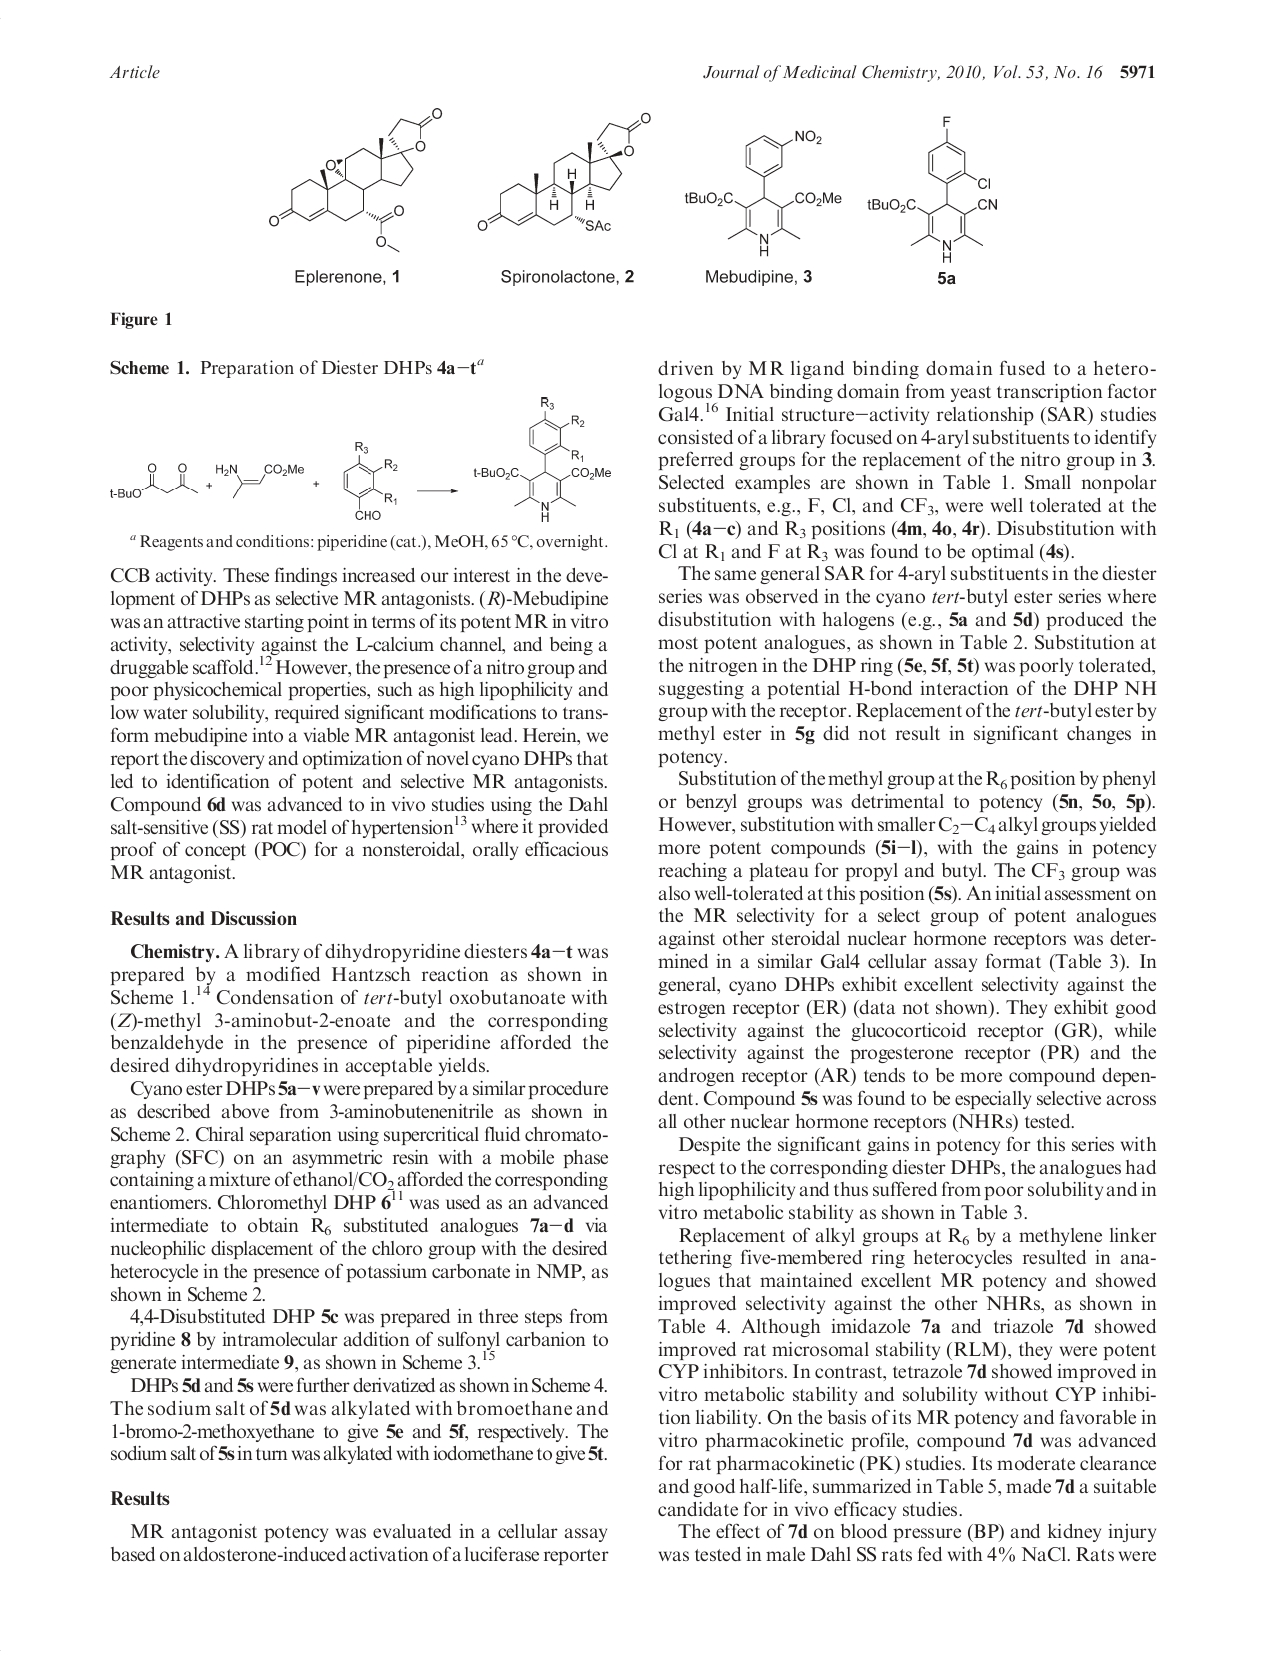exist_molecular: (269, 102, 445, 255), (476, 109, 653, 237), (682, 125, 844, 259), (867, 114, 1000, 265), (472, 394, 613, 525), (340, 438, 404, 523), (214, 460, 307, 500), (106, 461, 198, 497)
